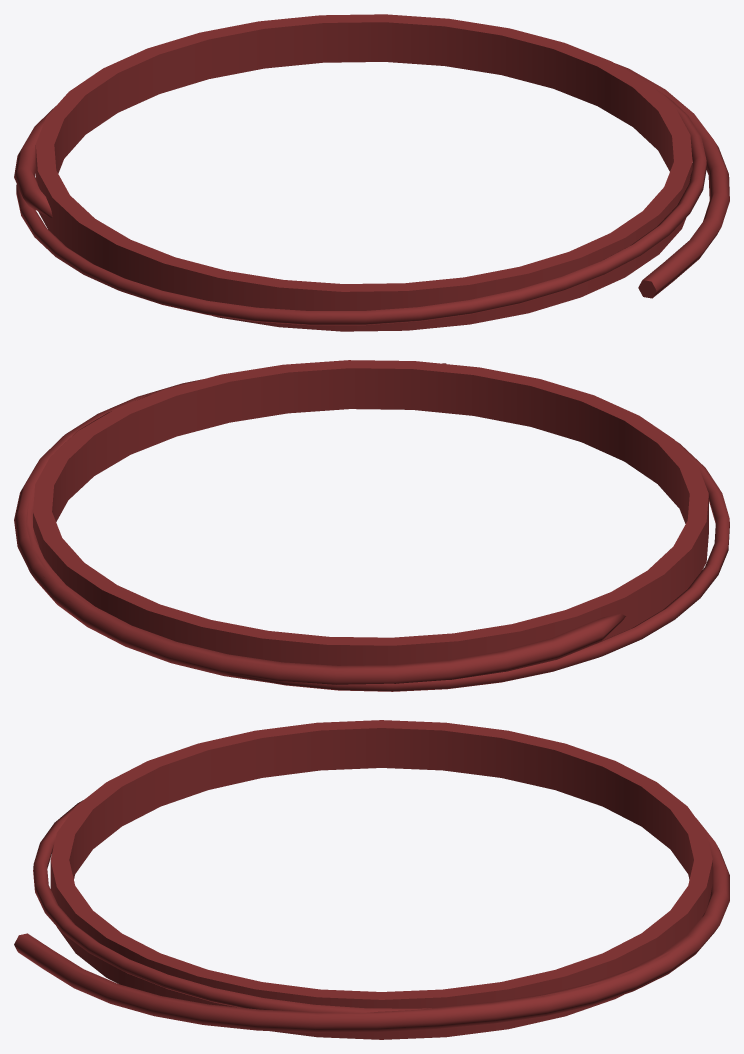
The model's file is SM_WiresPack05.fbx.
3 renders of one model, top to bottom at view 1: azimuth 30°, elevation 25°; view 2: azimuth 150°, elevation 25°; view 3: azimuth 270°, elevation 25°, orthographic. The views are drawn at different scales.
Visible parts, largest first — view 1: WiresPack05; view 2: WiresPack05; view 3: WiresPack05.
Boxes of the visible parts, x1,y1,x2,y2 form: WiresPack05: (14, 14, 729, 331); WiresPack05: (14, 360, 729, 691); WiresPack05: (14, 720, 729, 1039).
Bounding box in the file's own units: 84.79 × 5.45 × 86.24.
